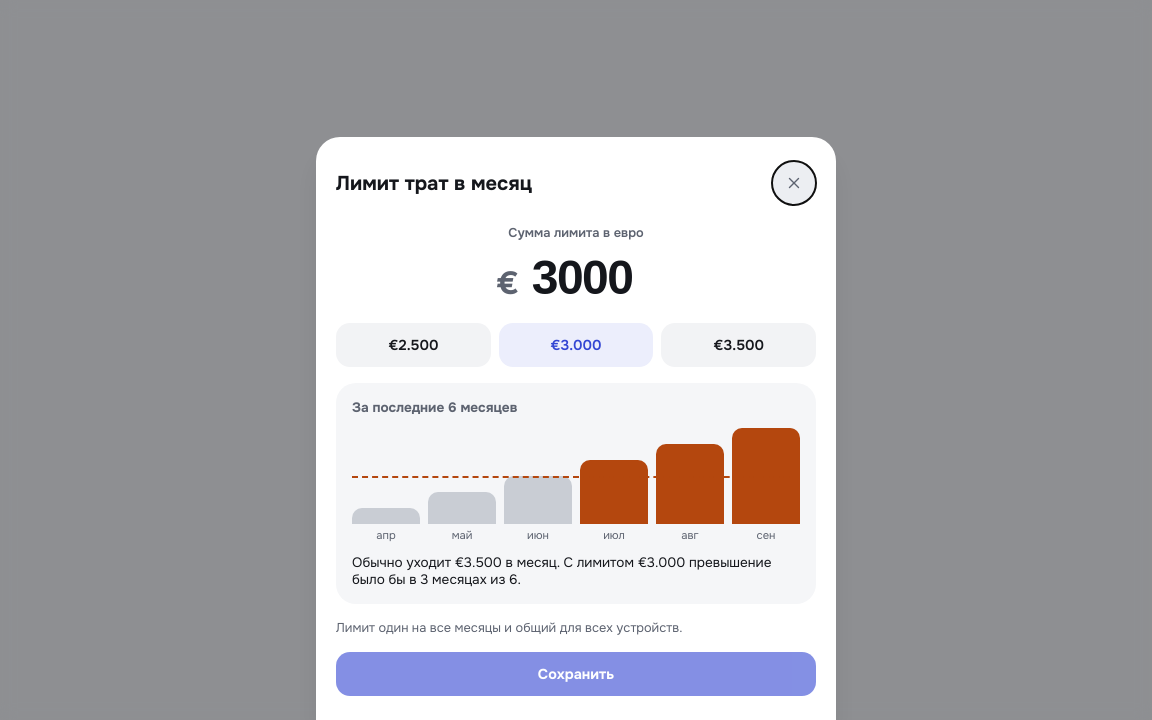
it: LimitSheet › describes the last 6 closed months and recomputes while typing
Expected: the text "С лимитом €3.000 превышение было бы в 3 месяцах из 6." is shown, top-left (352, 554), bottom-right (800, 588)
Clear the number field labelled "Сумма лимита в евро": (590, 278) top-left (523, 249), bottom-right (656, 307)
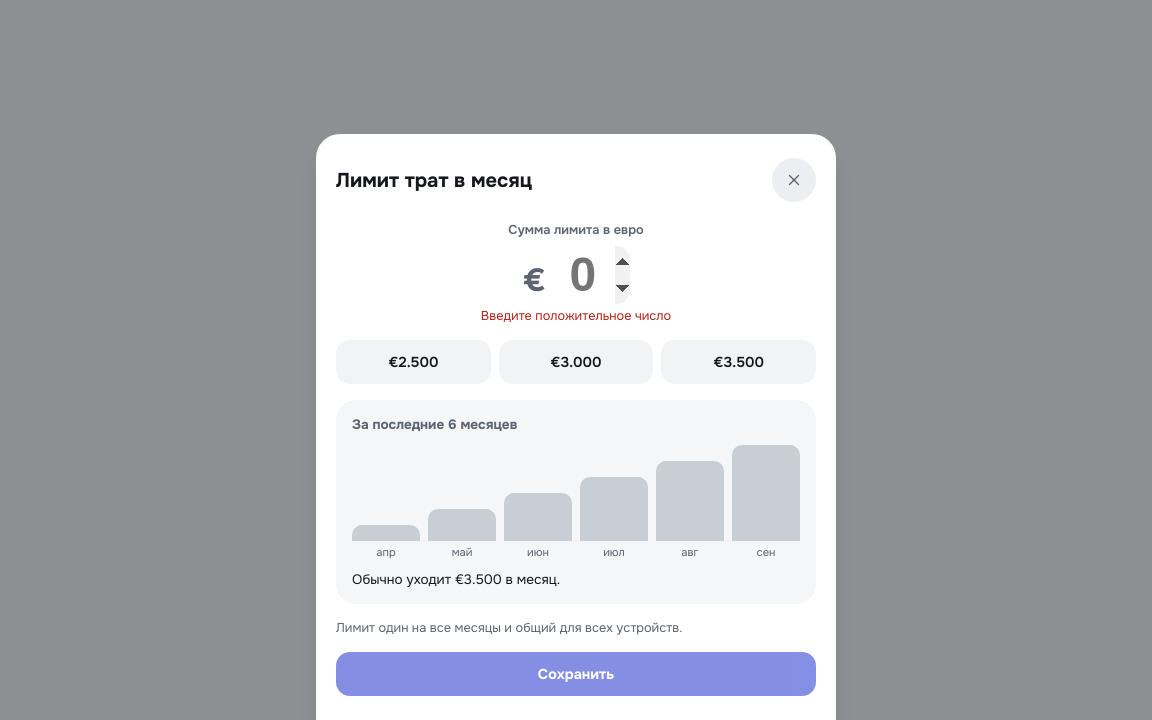
In the number field labelled "Сумма лимита в евро": (590, 275) top-left (550, 246), bottom-right (630, 304), type "5500"
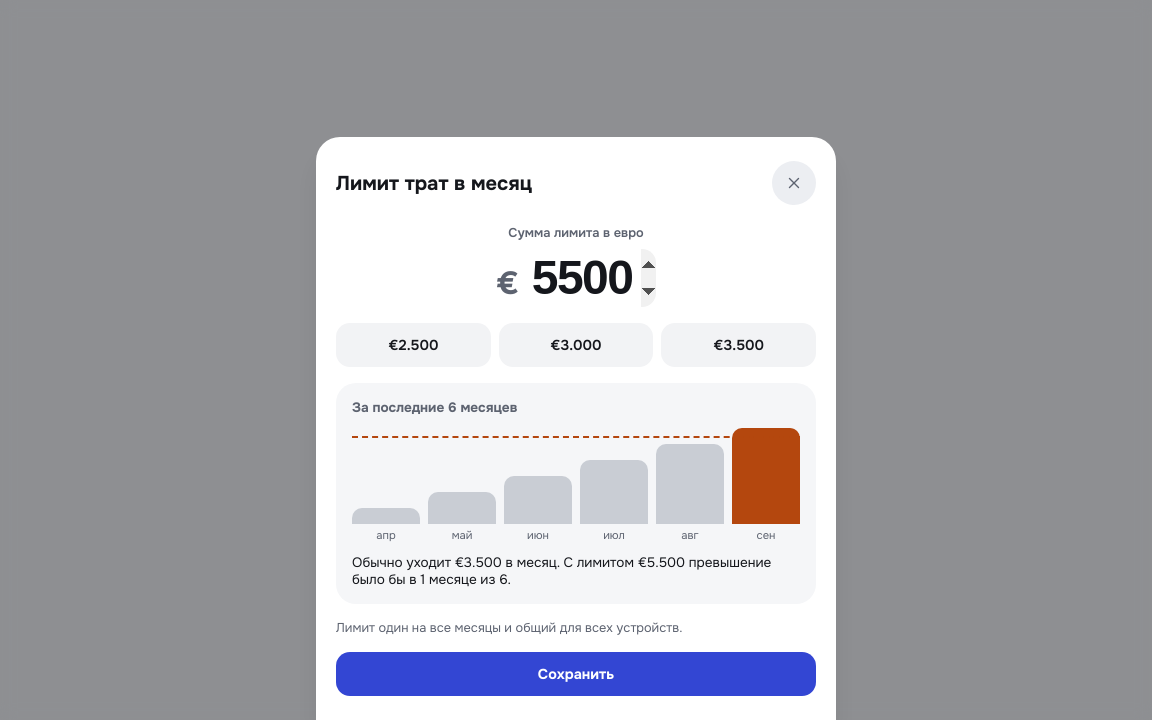
Now the text "С лимитом €5.500 превышение было бы в 1 месяце из 6." is shown, box top-left (352, 554), bottom-right (800, 588)
Clear the number field labelled "Сумма лимита в евро": (590, 278) top-left (523, 249), bottom-right (656, 307)
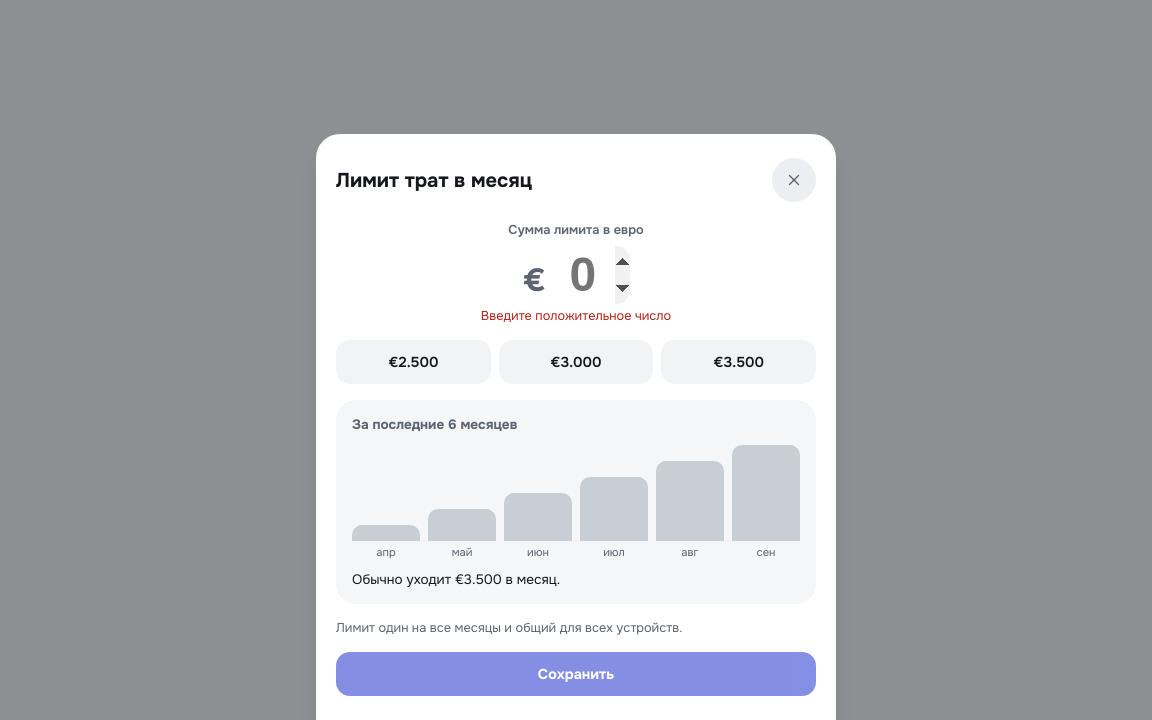
In the number field labelled "Сумма лимита в евро": (590, 275) top-left (550, 246), bottom-right (630, 304), type "7000"
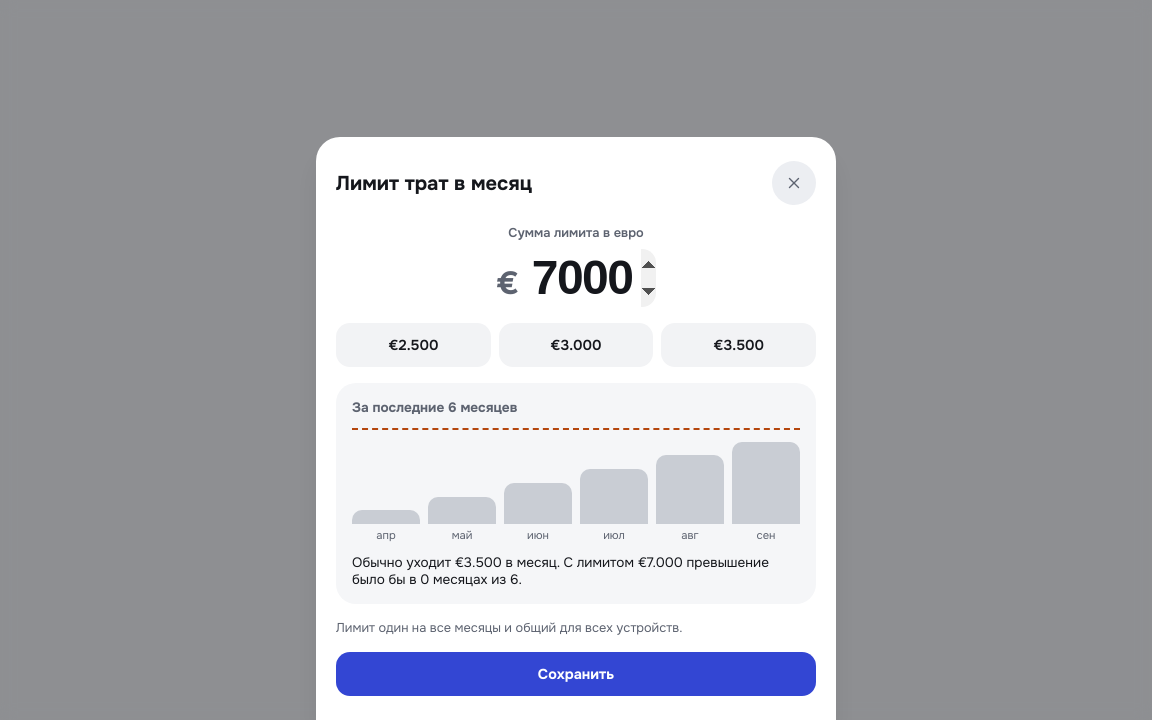
Now the text "С лимитом €7.000 превышение было бы в 0 месяцах из 6." is shown, box top-left (352, 554), bottom-right (800, 588)
